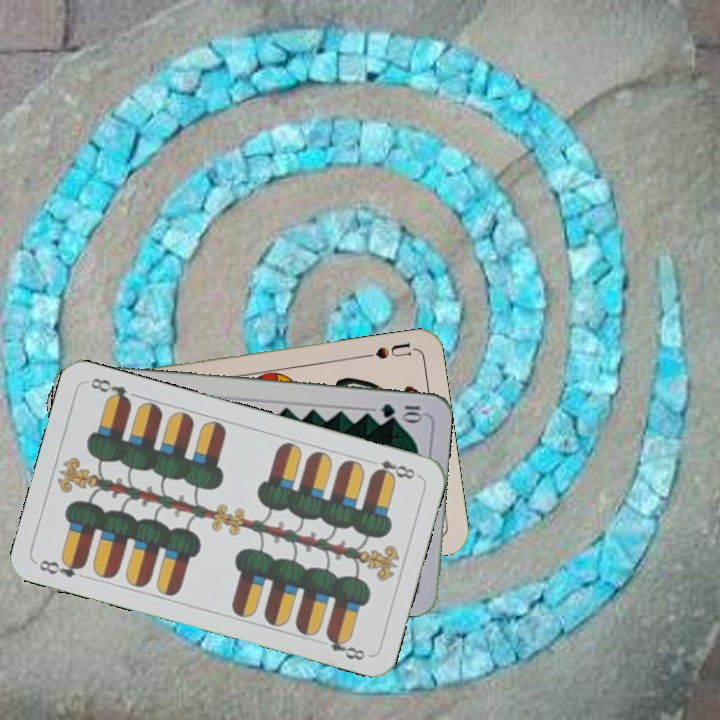E8: (364, 455, 421, 482), (35, 554, 88, 581)
G10: (377, 399, 425, 422)
SU: (358, 339, 417, 362)
